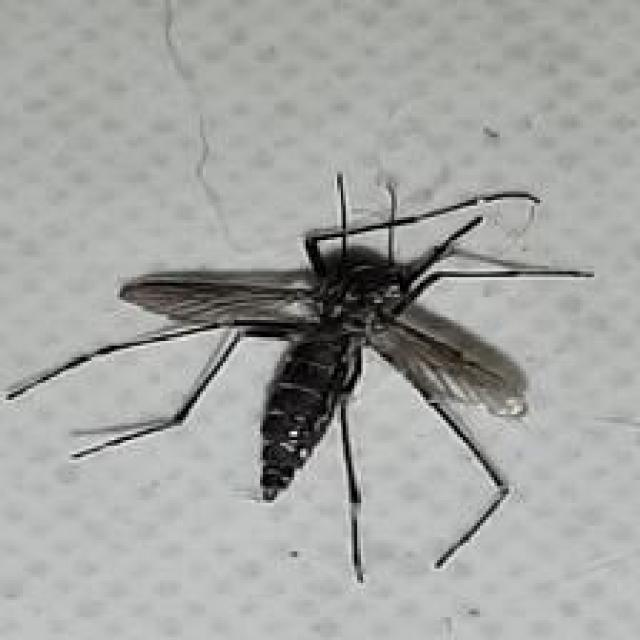Aedes albopictus: (4, 167, 596, 584)
